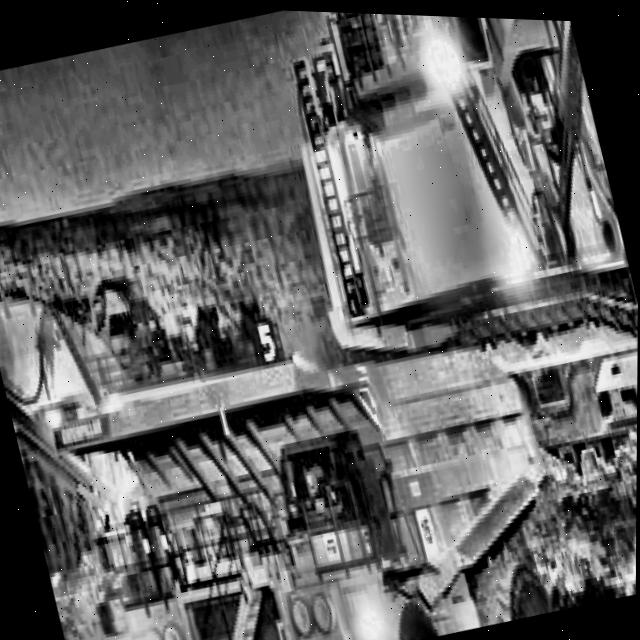dump_truck: (0, 236, 609, 640)
excavator: (233, 7, 640, 627), (0, 161, 195, 640)
